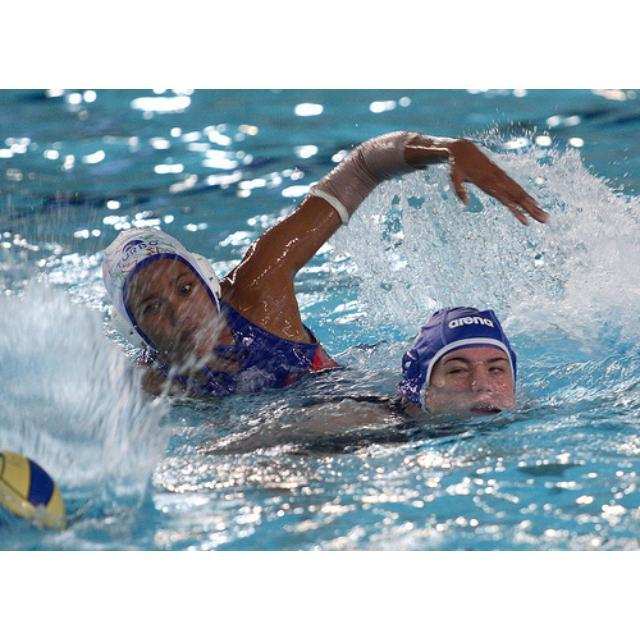human: (126, 126, 549, 407), (229, 300, 537, 483)
